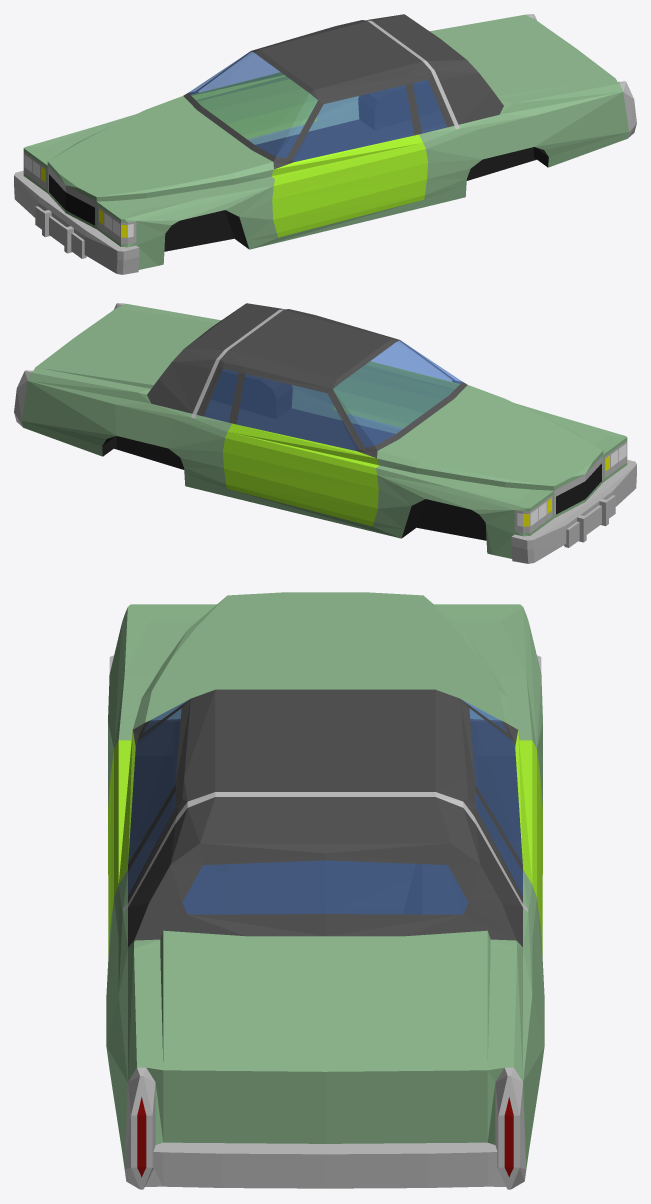
File: Cradellac.fbx
The picture shows the model from 3 angles, top to bottom: view 1: azimuth 30°, elevation 25°; view 2: azimuth 150°, elevation 25°; view 3: azimuth 270°, elevation 25°; orthographic projection. The views are drawn at different scales.
Parts seen in each view (by area): view 1: _(Loose Entity); view 2: _(Loose Entity); view 3: _(Loose Entity).
Boxes of the visible parts, x1,y1,x2,y2 form: _(Loose Entity): (14,14,636,274); _(Loose Entity): (14,303,636,563); _(Loose Entity): (106,592,544,1189).
Bounding box in the file's own units: 508 × 116 × 180.
